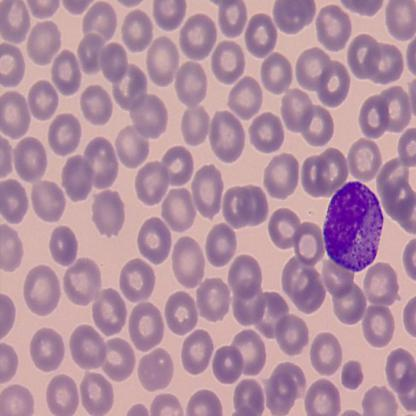Myelocyte: (324, 179, 384, 273)
